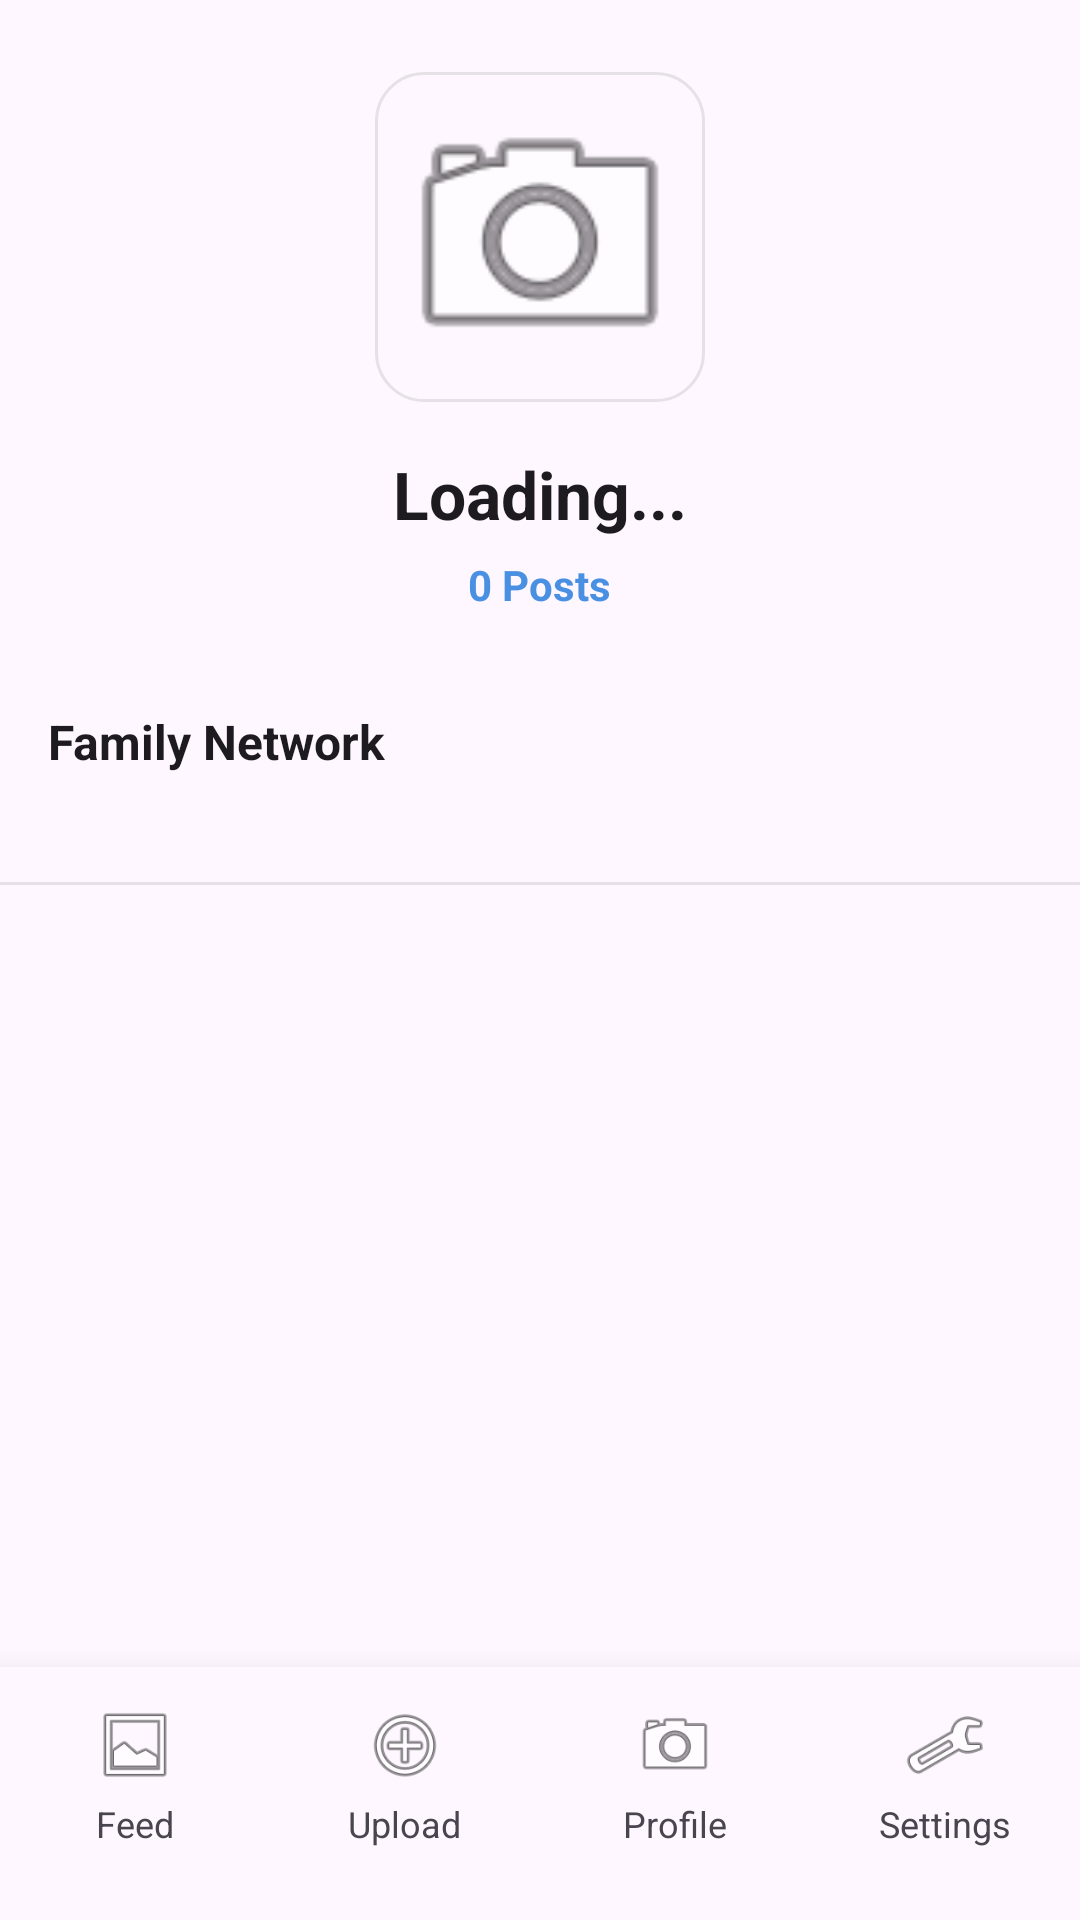

Where icons sit on this 1080px×1920px app screen, as (x1, y1, x2, y2):
add: (374, 1714, 436, 1777)
camera: (422, 138, 658, 327), (642, 1718, 708, 1770)
gallery: (103, 1713, 167, 1777)
preferences: (907, 1716, 983, 1774)
